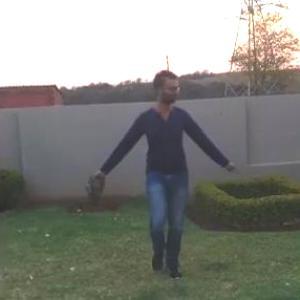land: (86, 71, 240, 286)
